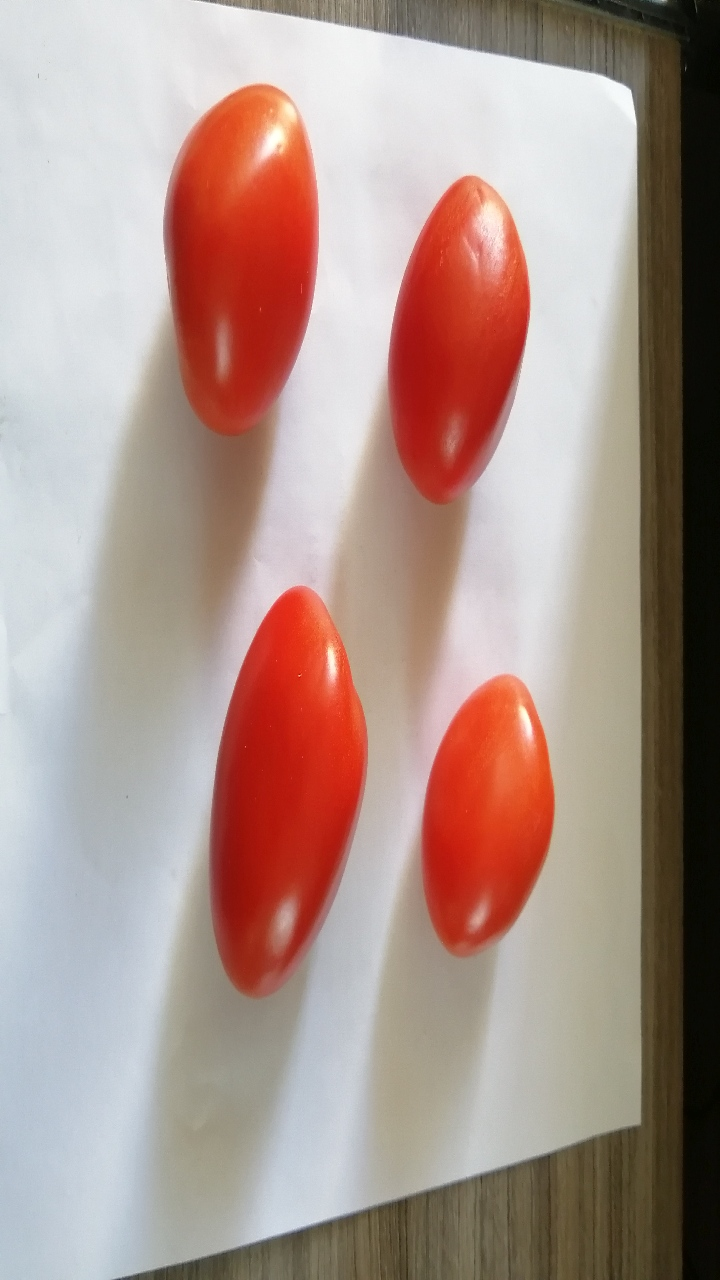tomateRojo: (166, 566, 371, 999), (135, 60, 337, 452), (361, 154, 543, 529), (403, 628, 577, 975)
